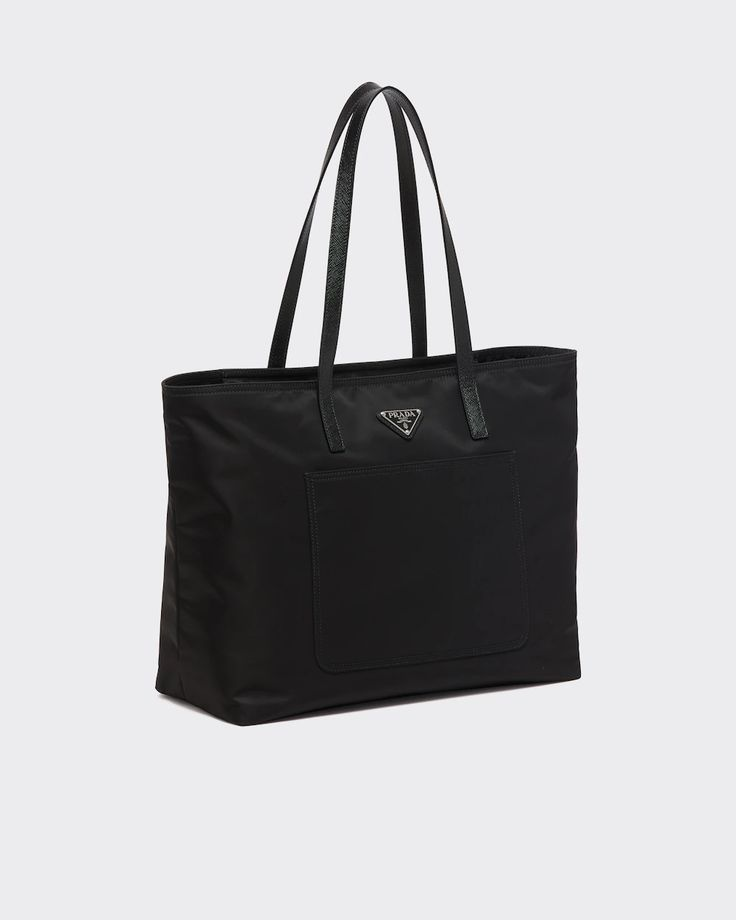nylon: (156, 345, 581, 727)
